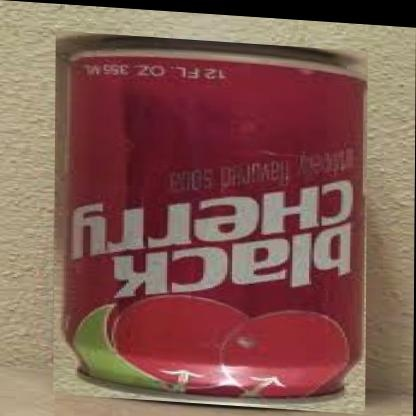trash: (56, 35, 365, 406)
